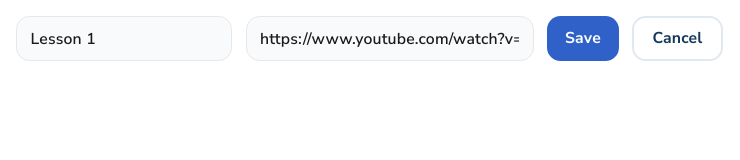
EditLessonForm › shows required errors for cleared fields
The image size is (740, 160).
Clear the 1st field with placeholder "Lesson title": (124, 38) [16, 16, 232, 61]
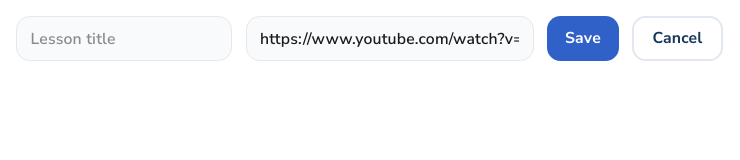
Clear the field with placeholder "Video URL": (390, 38) [246, 16, 534, 61]
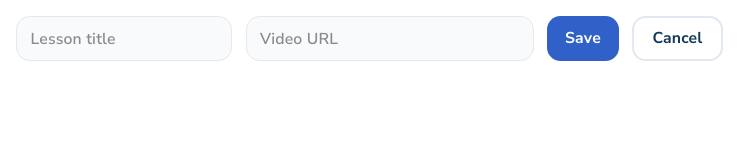
Click the button "Save": (583, 38) [547, 16, 619, 61]
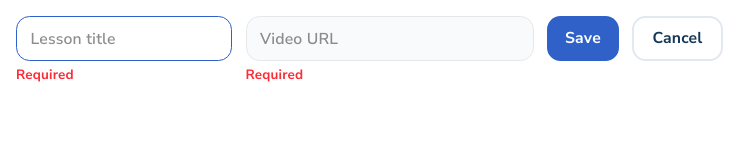
Now the text "Required" is shown 2 times, box [16, 64, 74, 84]; [246, 64, 303, 84]
